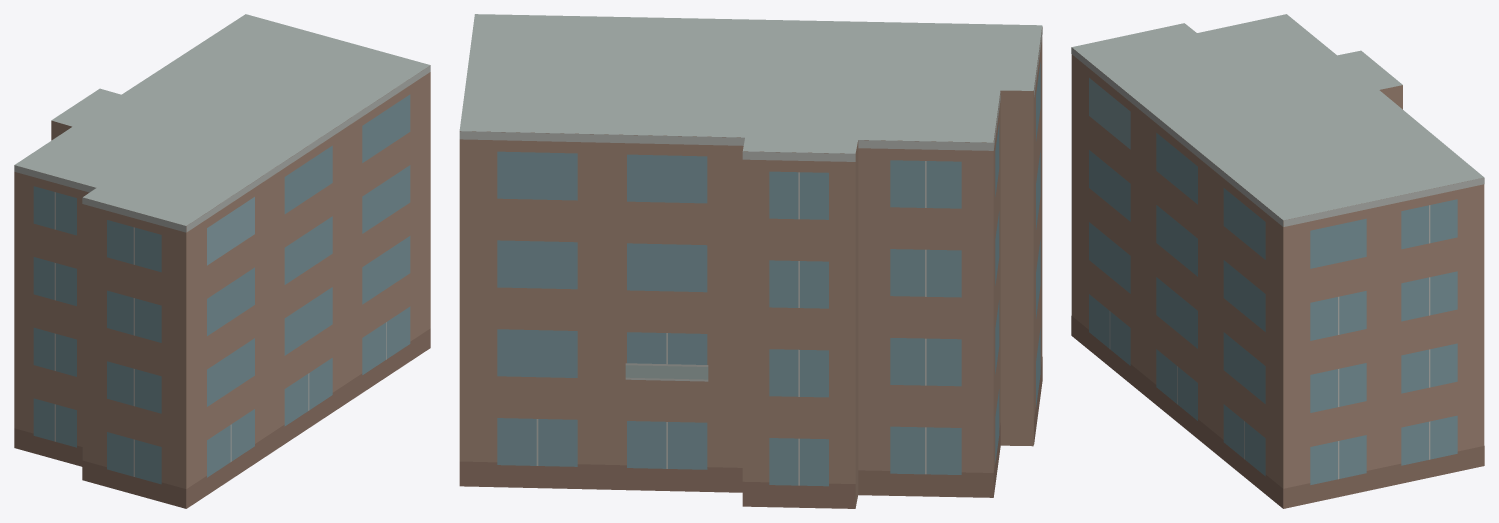
The model's file is survey-upis-32863908.glb.
The picture shows the model from 3 angles, left to right: view 1: azimuth 30°, elevation 25°; view 2: azimuth 150°, elevation 25°; view 3: azimuth 270°, elevation 25°; orthographic projection. The views are drawn at different scales.
Visible parts, largest first — view 1: survey-upis-32863908.tmp; view 2: survey-upis-32863908.tmp; view 3: survey-upis-32863908.tmp.
Boxes of the visible parts, left/top/right/bottom form: survey-upis-32863908.tmp: left=14, top=14, right=430, bottom=508; survey-upis-32863908.tmp: left=459, top=14, right=1042, bottom=508; survey-upis-32863908.tmp: left=1071, top=14, right=1484, bottom=508.
Size of the model in its own units: 15.97 by 10.4 by 13.5.
